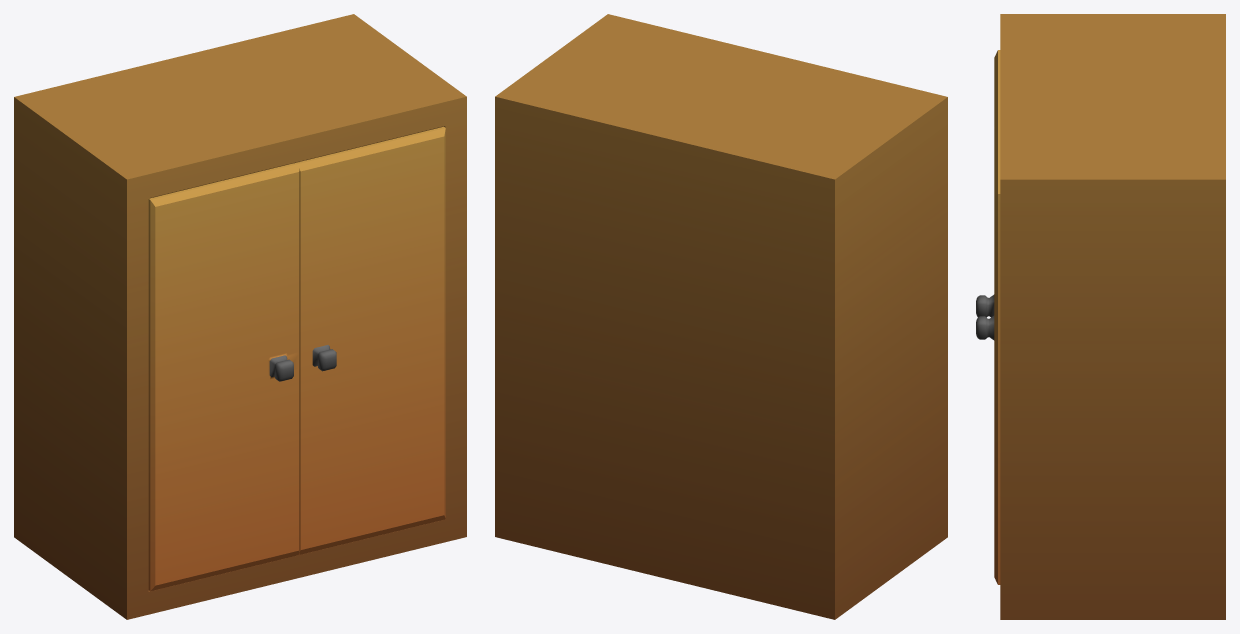
Rendered from SM_Armario.fbx.
3 views of the same model, side by side, from view 1: azimuth 30°, elevation 25°; view 2: azimuth 150°, elevation 25°; view 3: azimuth 270°, elevation 25° (orthographic).
Visible parts, largest first — view 1: Armario; view 2: Armario; view 3: Armario.
Boxes of the visible parts, x1=… form: Armario: x1=14, y1=14, x2=466, y2=619; Armario: x1=495, y1=14, x2=947, y2=619; Armario: x1=976, y1=14, x2=1225, y2=619.
Bounding box in the file's own units: 176 × 217 × 112.
